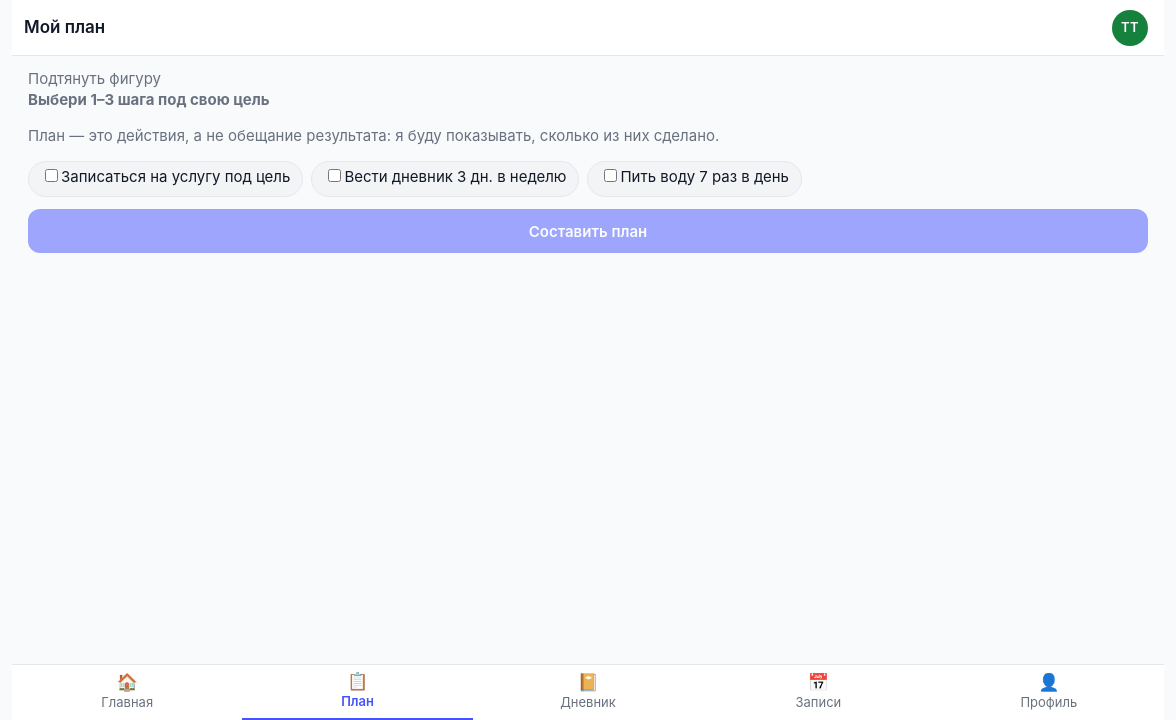
it: конструктор › выбранные уходят POST'ом только как actions (goal_id не шлётся)
The image size is (1176, 720).
Click the checkbox labelled "Записаться на услугу под цель" at (52, 176), box [45, 169, 58, 182]
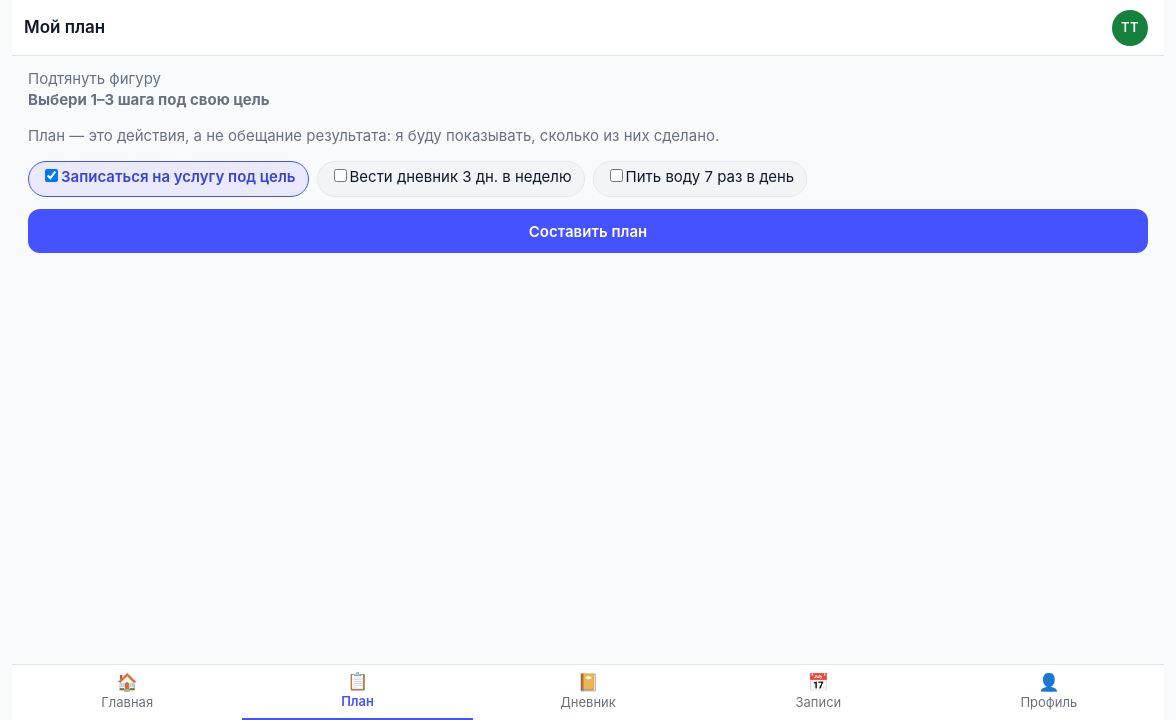
Click the checkbox labelled "Вести дневник 3 дн. в неделю" at (340, 176), box [334, 169, 346, 182]
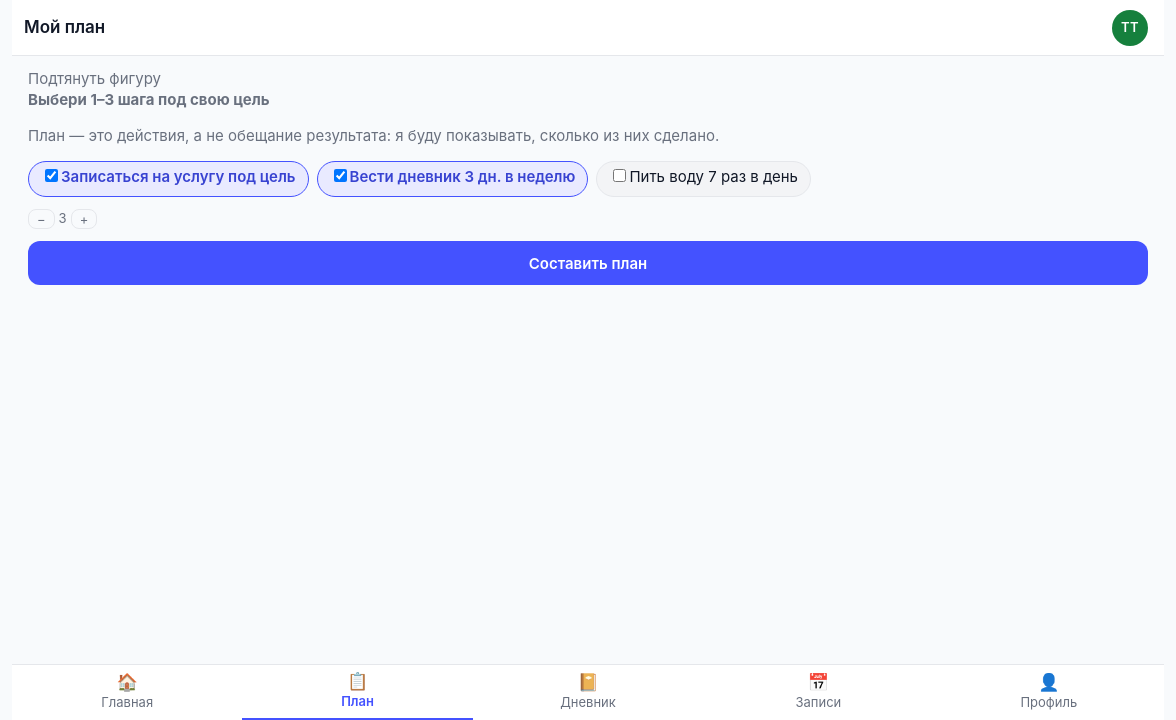
Click the button "Составить план" at (588, 263), box [28, 241, 1148, 285]
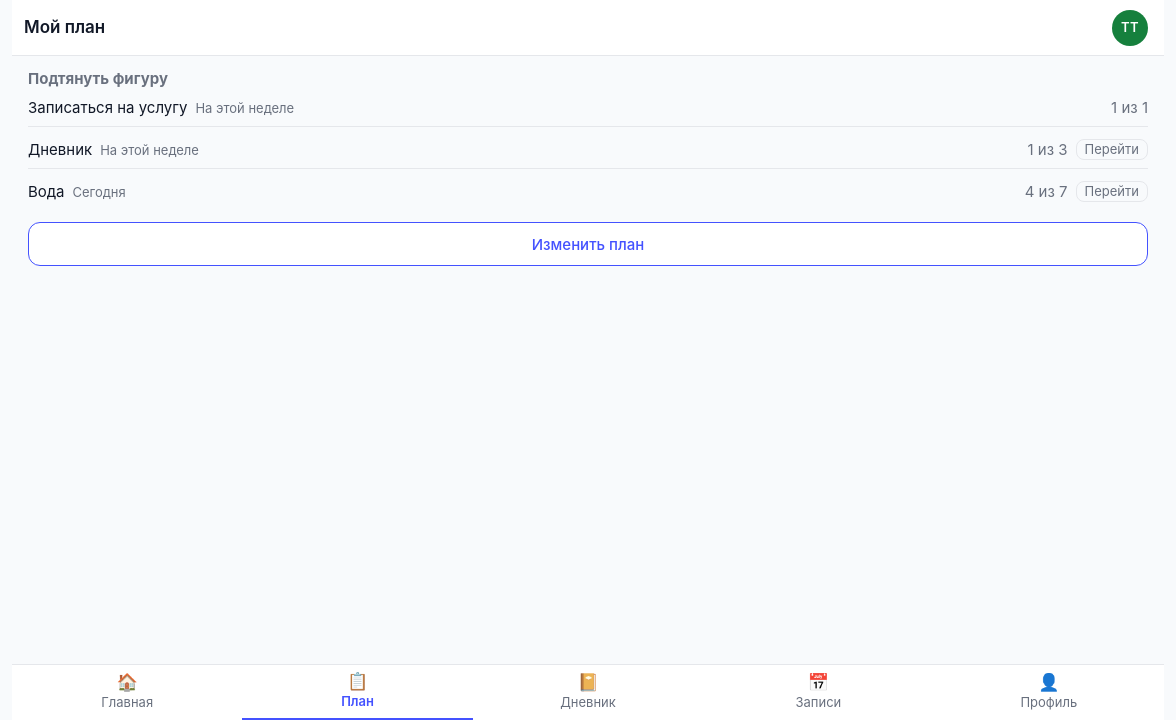
Now the element with test id "plan-lite-card" is shown, box [28, 68, 1148, 266]
